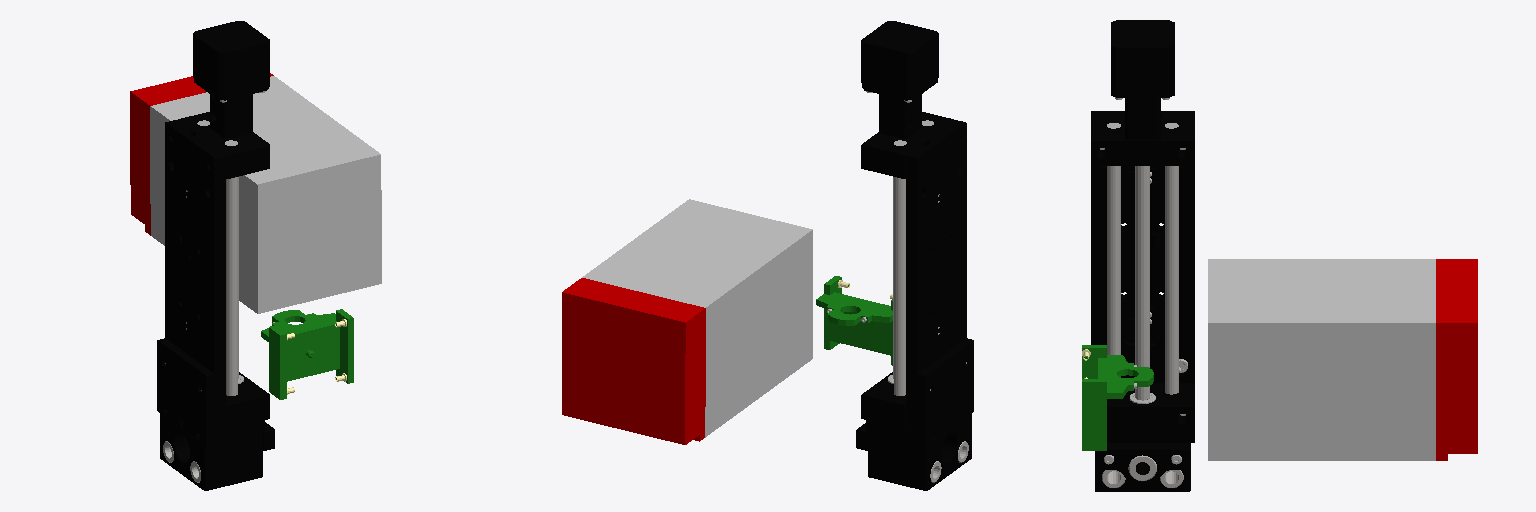
URDF robot description (arm):
<robot name="arm">
    <link name="world" />
    <joint name="base_joint" type="fixed">
        <origin xyz="0 0 0.046482" rpy="0 0 0 " />
        <parent link="world" />
        <child link="base" />
    </joint>
    <link name="base">
        <visual>
            <geometry>
                <mesh filename="model://adaptive_guide/meshes/Base Link.dae" />
            </geometry>
        </visual>
        <inertial>
            <mass value="4.642" />
            <inertia ixx="0.0758" iyy="0.1601" izz="0.1032" ixy="0.0004" ixz="-0.0537" iyz="0.0016" />
        </inertial>

    </link>
    <joint name="phantom_joint" type="fixed">
        <origin xyz="0.140843 0.04279 0.065668" rpy="1.57 0 1.57" />
        <parent link="base" />
        <child link="phantom" />
    </joint>
    <link name="phantom">
        <visual>
            <geometry>
                <mesh filename="model://adaptive_guide/meshes/Phantom.dae" />
            </geometry>
        </visual>

        <inertial>
            <mass value="2.078" />
            <inertia ixx="0.0087" iyy="0.0277" izz="0.0279" ixy="-0.0091" ixz="0.0" iyz="0.0" />
        </inertial>

    </link>
    <link name="link1">
        <visual>
            <geometry>
                <mesh filename="model://adaptive_guide/meshes/Link1.dae" />
            </geometry>
        </visual>

        <inertial>
            <mass value="0.568" />
            <inertia ixx="0.0122" iyy="0.0007" izz="0.0119" ixy="0.0" ixz="0.0002" iyz="-0.0016" />
        </inertial>

    </link>
    <link name="link2">
        <visual>
            <geometry>
                <mesh filename="model:///adaptive_guide/meshes/Link2.dae" />
            </geometry>
        </visual>

        <inertial>
            <mass value="0.204" />
            <inertia ixx="0.0003" iyy="0.0012" izz="0.0014" ixy="0.0002" ixz="0.0001" iyz="0.0" />
        </inertial>

    </link>
    <link name="link3">
        <visual>
            <geometry>
                <mesh filename="model://adaptive_guide/meshes/Link3.dae" />
            </geometry>
        </visual>
        <inertial>
            <mass value="0.025" />
            <inertia ixx="0.0" iyy="0.0" izz="0.0" ixy="0.0" ixz="0.0" iyz="0.0" />
        </inertial>

    </link>
    <link name="link4">
        <visual>
            <geometry>
                <mesh filename="model://adaptive_guide/meshes/Link4.dae" />
            </geometry>
        </visual>

        <inertial>
            <mass value="0.023" />
            <inertia ixx="0.0" iyy="0.0" izz="0.0" ixy="0.0" ixz="0.0" iyz="0.0" />
        </inertial>

    </link>
    <link name="EE" />

    <joint name="joint1" type="prismatic">
        <origin xyz="0.005 0 0" rpy="0 0 0 " />
        <limit lower="0" upper="0.100" effort="30.0" velocity="6" />
        <parent link="base" />
        <child link="link1" />
        <axis xyz="0 0 1" />
    </joint>
    <joint name="joint2" type="prismatic">
        <origin xyz="0.040132 0 0.0487525" rpy="1.57 0 1.57" />
        <limit lower="0" upper="0.100" effort="30.0" velocity="6" />
        <parent link="link1" />
        <child link="link2" />
        <axis xyz="0 1 0" />
    </joint>
    <joint name="joint3" type="prismatic">
        <origin xyz="-0.009758 0.0333375 0.045724" rpy="0 0 0 " />
        <limit lower="-0.160" upper="0" effort="30.0" velocity="6" />
        <parent link="link2" />
        <child link="link3" />
        <axis xyz="1 0 0" />
    </joint>
    <joint name="joint4" type="revolute">
        <origin xyz="-0.00025 0 0" rpy="0 0 0 " />
        <limit lower="-3" upper="3" effort="30.0" velocity="6" />
        <parent link="link3" />
        <child link="link4" />
        <axis xyz="1 0 0" />
    </joint>
    <joint name="joint_EE" type="fixed">
        <origin xyz="0.16 0 0" rpy="0 0 0 " effort="30.0" velocity="6" />
        <parent link="link4" />
        <child link="EE" />
    </joint>
</robot>

--- Facts derived from the render (not from the file) ---
The picture shows the robot from 3 angles, left to right: view 1: azimuth 30°, elevation 25°; view 2: azimuth 150°, elevation 25°; view 3: azimuth 270°, elevation 25°; orthographic projection.
Model arm with 8 links and 7 joints (1 revolute, 3 prismatic, 3 fixed), rooted at world, posed every joint at zero.
Links seen in each view (by area): view 1: link1, phantom, link3; view 2: phantom, link1, link3; view 3: phantom, link1, link3.
Link boxes in pixels (<box>): link1: <box>157,21,274,490</box>; phantom: <box>130,73,381,313</box>; link3: <box>261,309,353,399</box>; phantom: <box>562,199,812,444</box>; link1: <box>856,21,973,490</box>; link3: <box>816,276,892,365</box>; phantom: <box>1208,259,1477,460</box>; link1: <box>1091,20,1194,491</box>; link3: <box>1082,345,1153,450</box>.
Size in the robot's own frame: 0.186 by 0.2611 by 0.329 metres.
Meshes: 6 distinct files referenced, 3 mesh visuals loaded (3 Collada DAE); not drawn: 3 (reference not matched to a file when rendering).